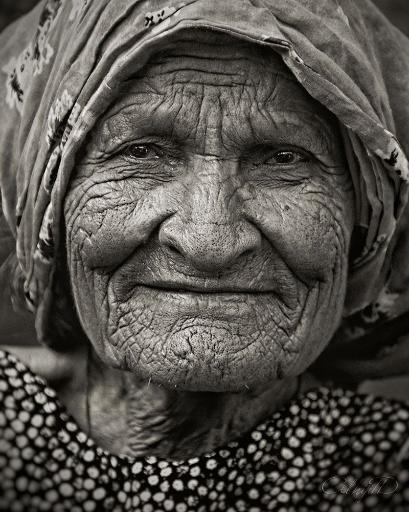left_eye: (261, 145, 319, 174)
left_lip_corner: (256, 283, 285, 307)
right_eye: (112, 140, 173, 168)
right_lip_corner: (137, 276, 173, 303)
